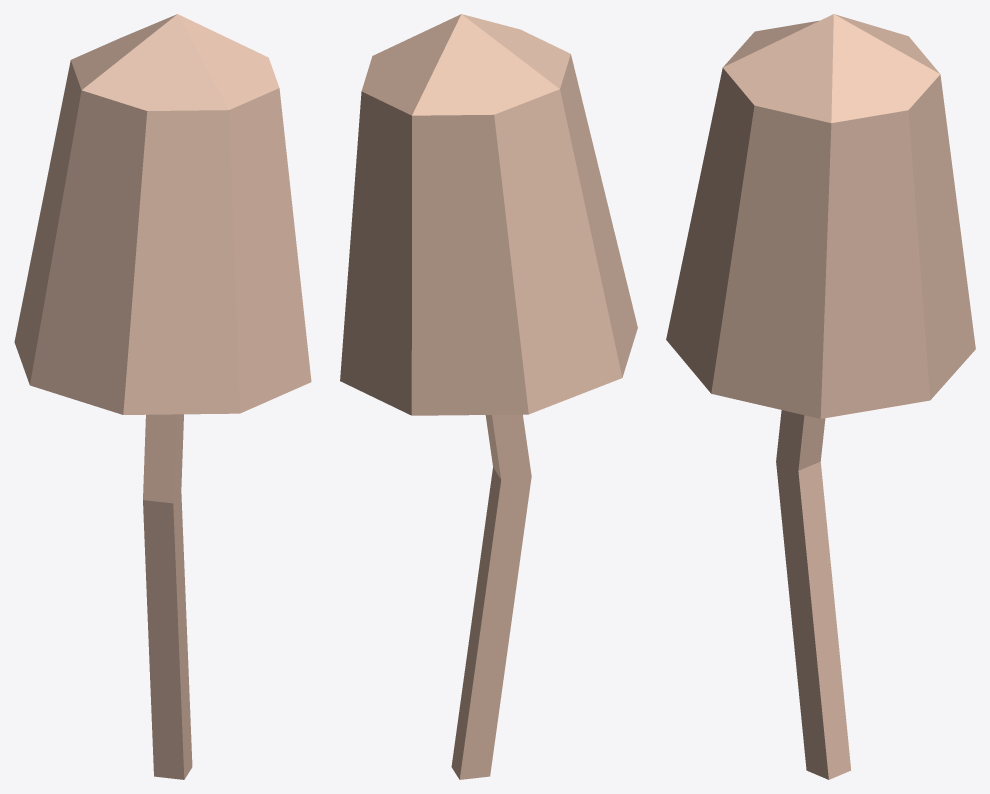
Rendered from Mushroom_b_02.fbx.
3 views of the same model, side by side, from view 1: azimuth 30°, elevation 25°; view 2: azimuth 150°, elevation 25°; view 3: azimuth 270°, elevation 25° (orthographic).
Visible parts, largest first — view 1: Mushroom_b_02; view 2: Mushroom_b_02; view 3: Mushroom_b_02.
Part boxes in pixels (x1=…): Mushroom_b_02: x1=14, y1=14, x2=311, y2=779; Mushroom_b_02: x1=340, y1=14, x2=637, y2=779; Mushroom_b_02: x1=666, y1=14, x2=975, y2=779.
Bounding box in the file's own units: 12 × 32.53 × 12.02.
